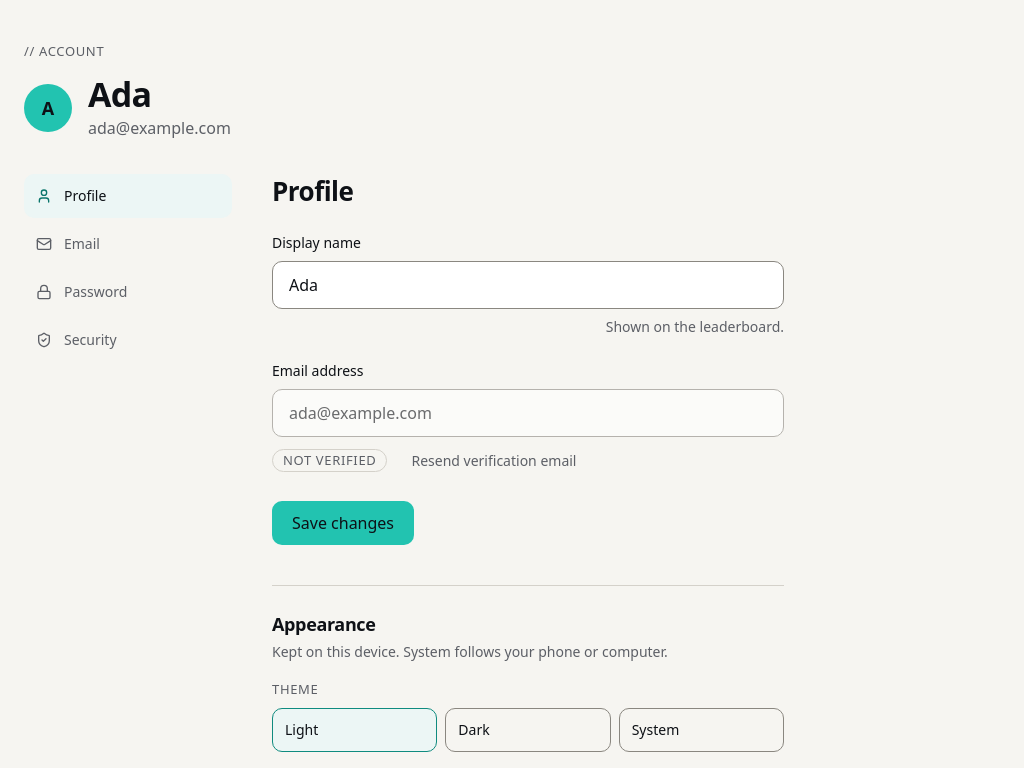
Test: Profile page › saves the display name and says so
Replace the text in the field labelled "Display name" with "Ada L" at (528, 285), box [272,261,784,309]
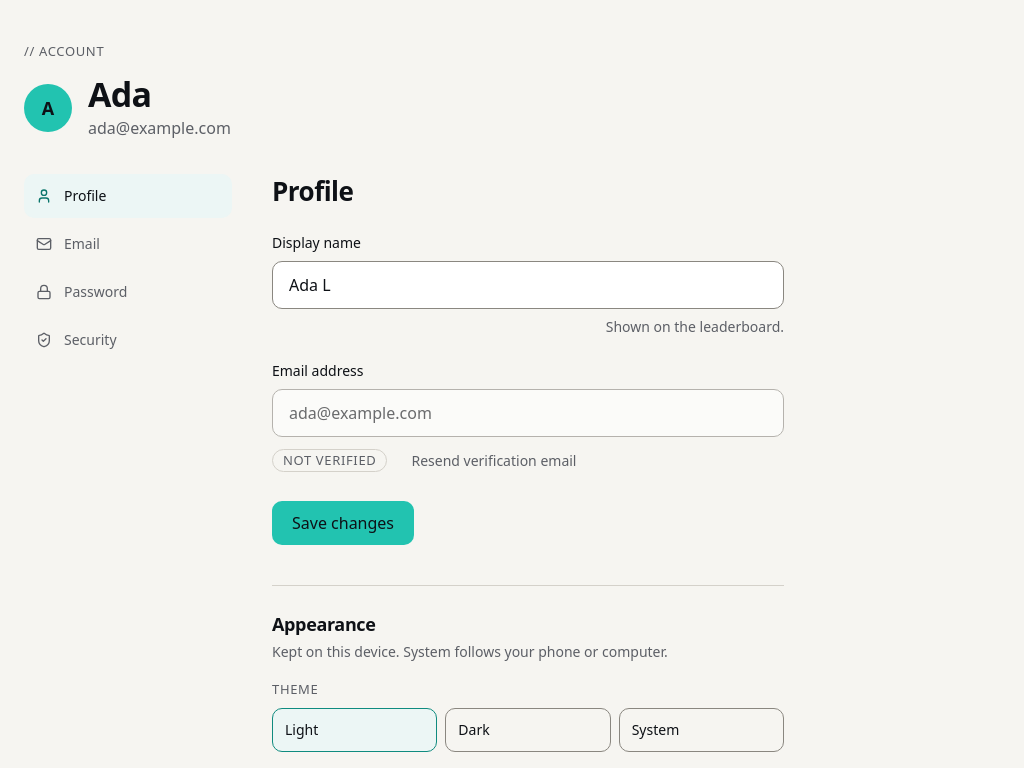
Click the button "Save changes" at (343, 523), box [272,501,414,545]
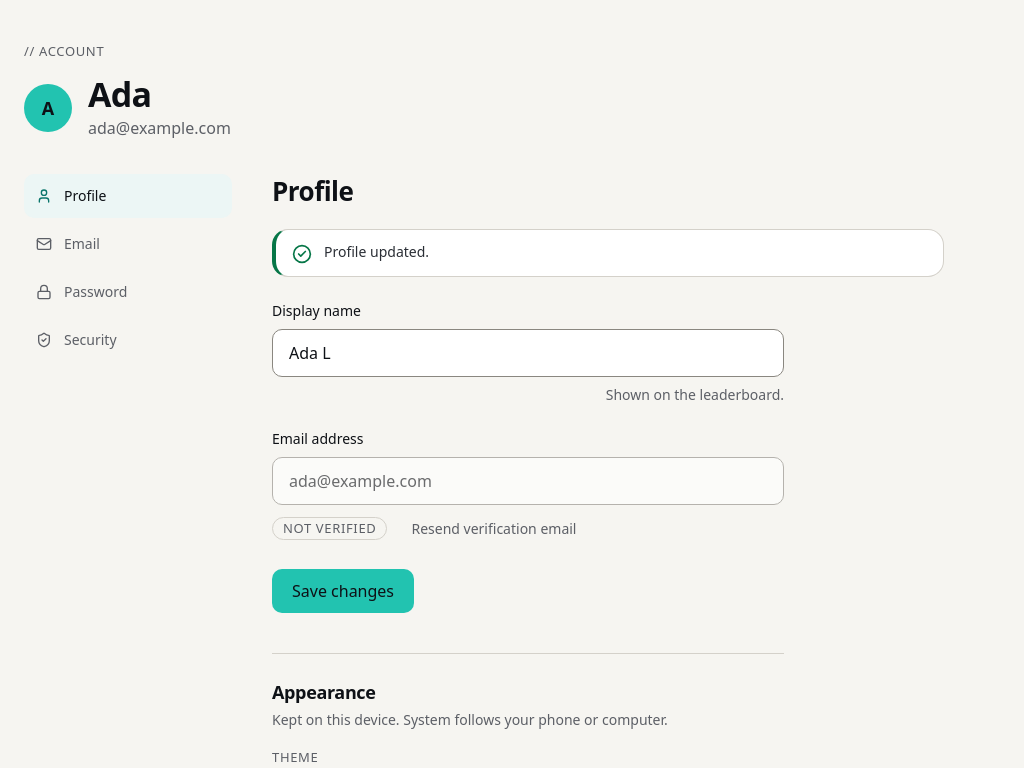
Check: the text "Profile updated." is shown, box [272,229,944,277]
